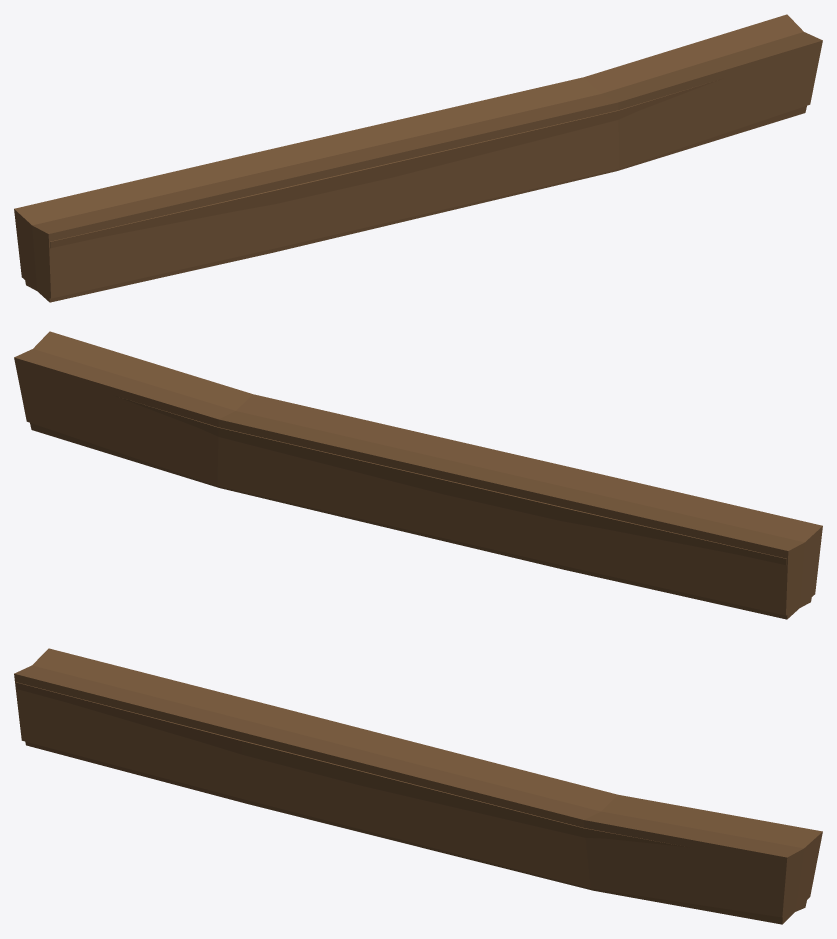
File: Beam_004.fbx
3 renders of one model, top to bottom at view 1: azimuth 30°, elevation 25°; view 2: azimuth 150°, elevation 25°; view 3: azimuth 330°, elevation 25°, orthographic.
Visible parts, largest first — view 1: Beam.004; view 2: Beam.004; view 3: Beam.004.
Boxes of the visible parts, bbox=[...] form: Beam.004: bbox=[14, 14, 822, 302]; Beam.004: bbox=[14, 331, 822, 619]; Beam.004: bbox=[14, 648, 822, 924].
Bounding box in the file's own units: 312 × 33.24 × 24.98.
